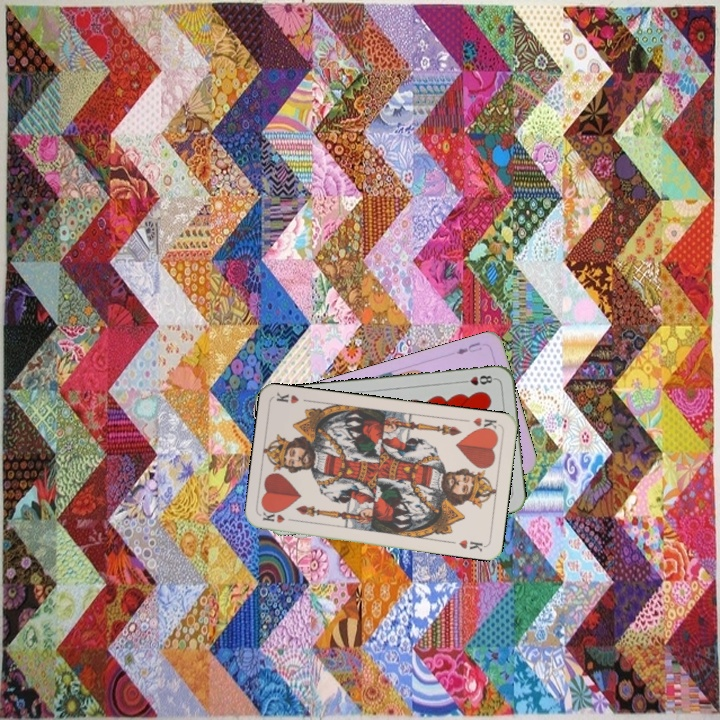EU: (452, 338, 484, 357)
H8: (457, 371, 498, 388)
HK: (258, 508, 299, 525), (469, 413, 499, 435)
